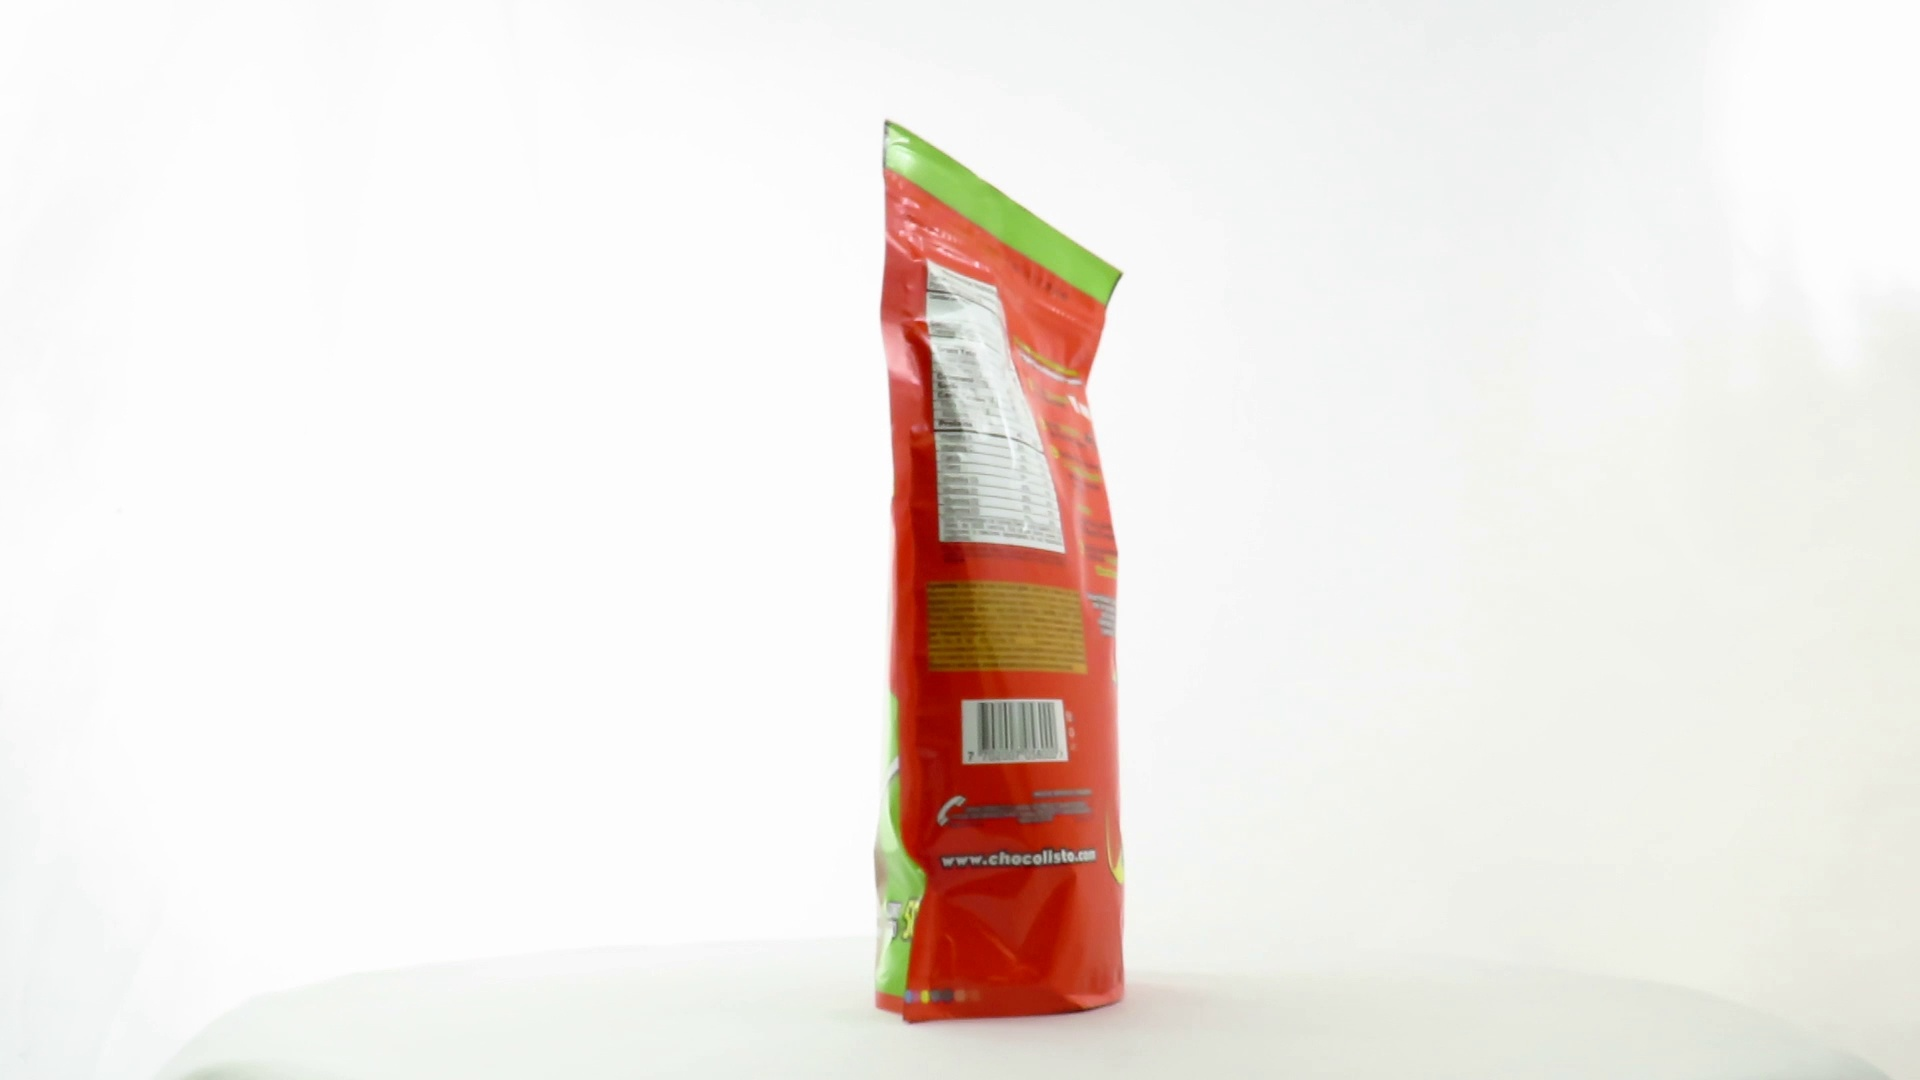COL0170102DYP50000: (868, 115, 1131, 1031)
